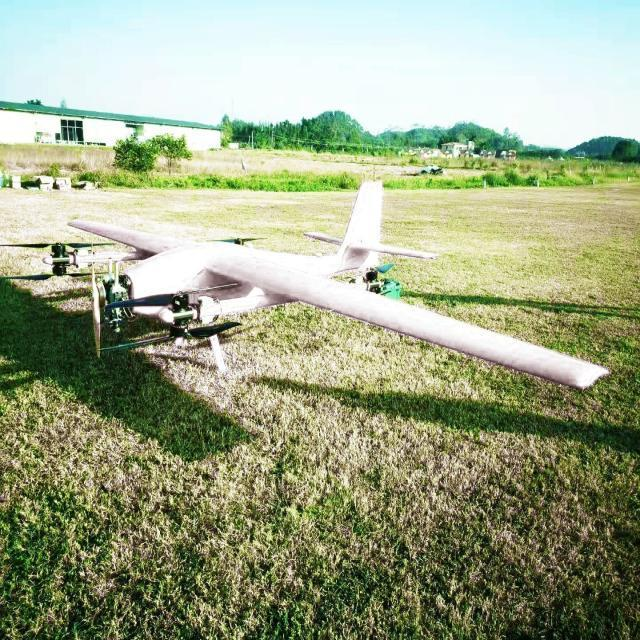iha: (37, 174, 606, 410)
